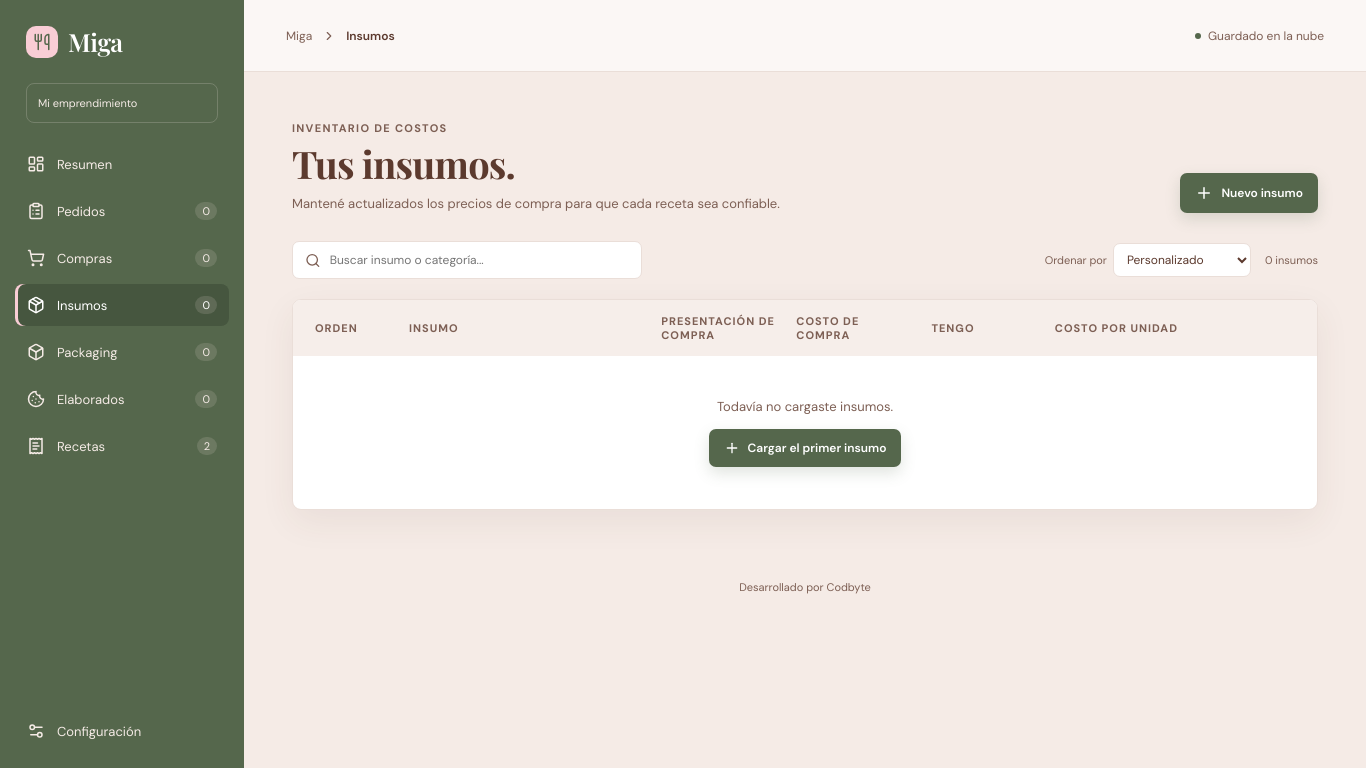
Test: Ingredients empty states › invites to create the first ingredient when there are none
Expected: the text "Todavía no cargaste insumos." is shown, [717,398,893,415]
Click the button "Cargar el primer insumo": (805, 448) [708,429,901,467]
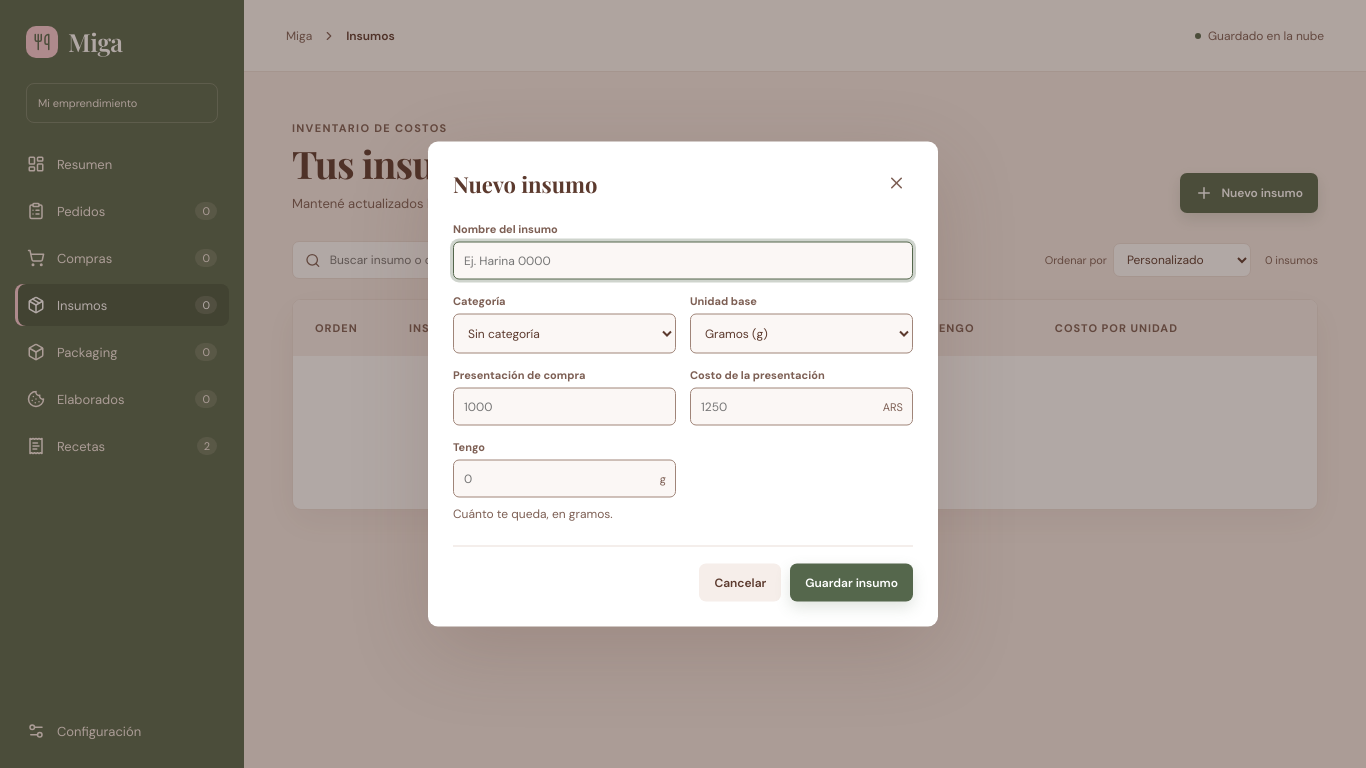
Result: the dialog is shown at [428,142,938,626]
